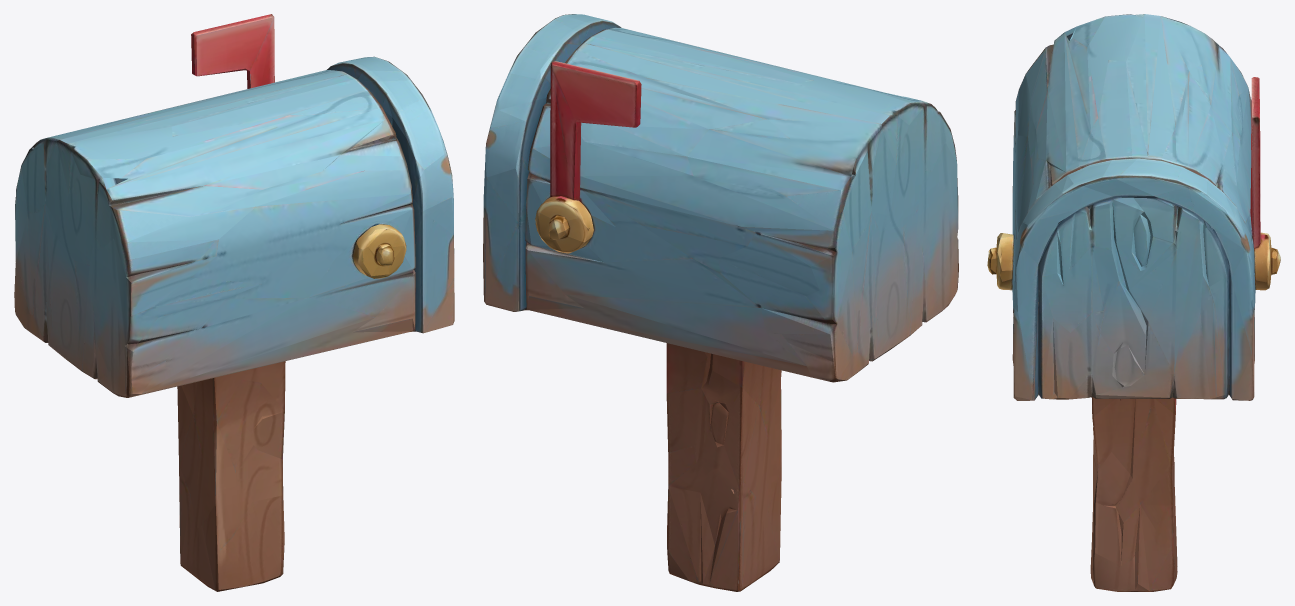
Rendered from mailbox.glb.
The picture shows the model from 3 angles, left to right: view 1: azimuth 30°, elevation 25°; view 2: azimuth 150°, elevation 25°; view 3: azimuth 270°, elevation 25°; orthographic projection. The views are drawn at different scales.
Size of the model in its own units: 1.33 by 1.9 by 0.9916.
1 material, 1 textured.
